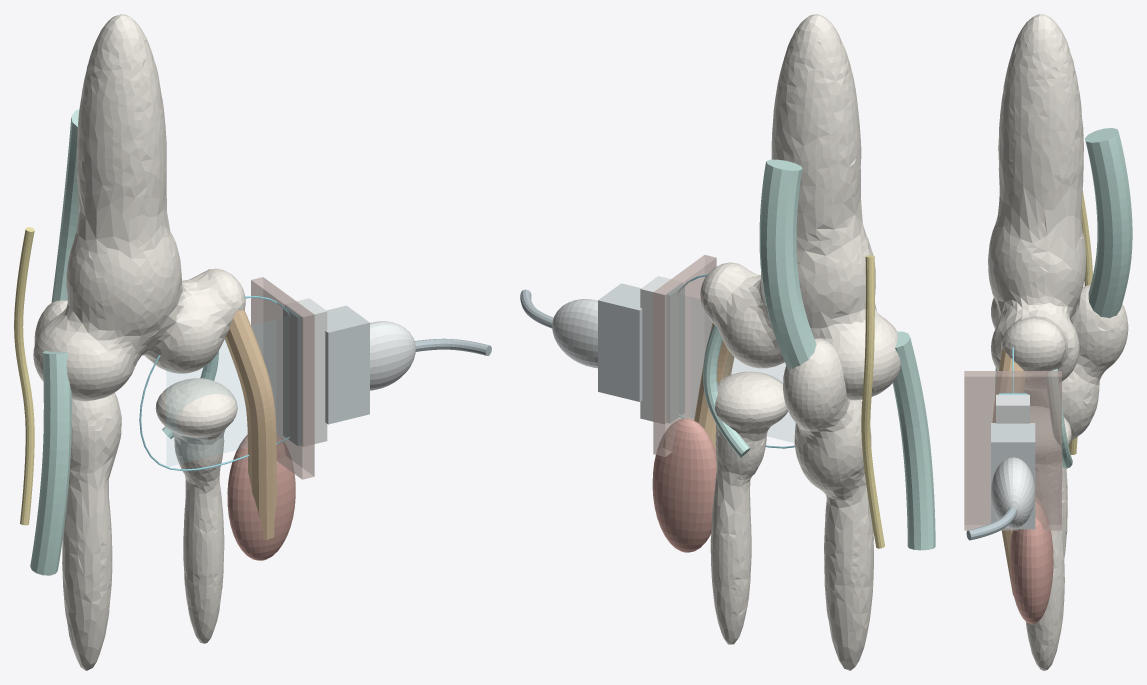
The model's file is elbow-long.glb.
3 views of the same model, side by side, from view 1: azimuth 30°, elevation 25°; view 2: azimuth 150°, elevation 25°; view 3: azimuth 270°, elevation 25° (orthographic). The views are drawn at different scales.
Visible parts, largest first — view 1: Humerus, Ulna, Radius, Local skin contact patch - surrounding skin omitted, Common flexor tendon, Illustrative imaging plane - not a simulated sonogram, Common extensor tendon, Transducer body, Extensor muscle mass - partial, Transducer head, Ulnar nerve, Transducer grip (+3 smaller); view 2: Humerus, Ulna, Radius, Local skin contact patch - surrounding skin omitted, Triceps tendon, Extensor muscle mass - partial, Common flexor tendon, Transducer body, Transducer head, Ulnar nerve, Illustrative imaging plane - not a simulated sonogram, Transducer grip (+3 smaller); view 3: Humerus, Local skin contact patch - surrounding skin omitted, Triceps tendon, Ulna, Radius, Extensor muscle mass - partial, Transducer grip, Transducer body, Common extensor tendon, Lateral collateral complex - simplified, Transducer head, Ulnar nerve (+1 smaller).
Part boxes in pixels (x1,y1,x2,y2): Humerus: (33,14,245,401); Ulna: (34,300,121,670); Radius: (155,378,237,643); Local skin contact patch - surrounding skin omitted: (251,277,314,479); Common flexor tendon: (30,351,71,575); Illustrative imaging plane - not a simulated sonogram: (167,320,276,466); Common extensor tendon: (224,309,276,539); Transducer body: (325,305,369,424); Extensor muscle mass - partial: (227,433,295,560); Transducer head: (285,298,327,446); Ulnar nerve: (14,227,34,525); Transducer grip: (370,321,415,390); Humerus: (700,14,900,400); Ulna: (783,338,873,670); Radius: (710,371,787,644); Local skin contact patch - surrounding skin omitted: (653,255,716,456); Triceps tendon: (759,159,816,368); Extensor muscle mass - partial: (652,418,716,552); Common flexor tendon: (892,331,935,550); Transducer body: (598,283,642,401); Transducer head: (640,276,682,423); Ulnar nerve: (861,255,884,548); Illustrative imaging plane - not a simulated sonogram: (691,297,794,442); Transducer grip: (552,299,597,368); Humerus: (988,14,1085,390); Local skin contact patch - surrounding skin omitted: (964,371,1061,530); Triceps tendon: (1085,128,1132,318); Ulna: (1023,284,1128,557); Radius: (1025,406,1071,670); Extensor muscle mass - partial: (1010,496,1053,624); Transducer grip: (991,457,1035,528); Transducer body: (991,423,1035,529); Common extensor tendon: (992,348,1025,595); Lateral collateral complex - simplified: (1045,368,1072,468); Transducer head: (996,394,1029,423); Ulnar nerve: (1068,191,1092,454).
Size of the model in its own units: 3.24 by 4.61 by 1.14.
